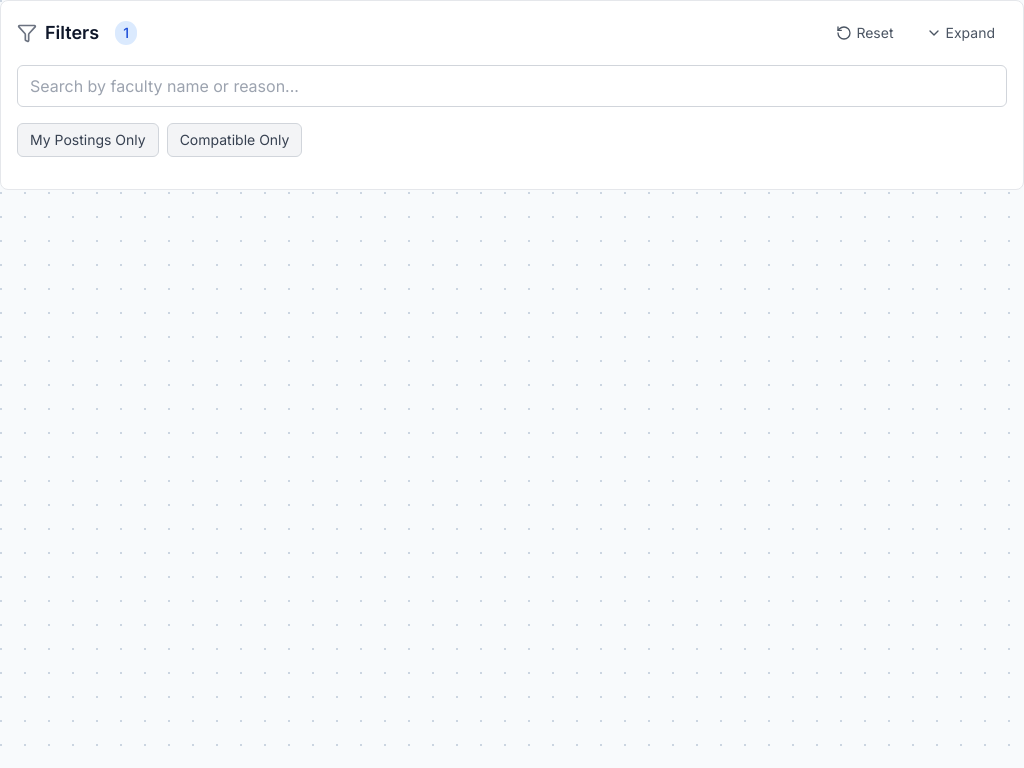
SwapFilters › Date Range Filter › should show Clear button when date range is active
Click the button "Expand": (960, 33) [914,17,1007,49]
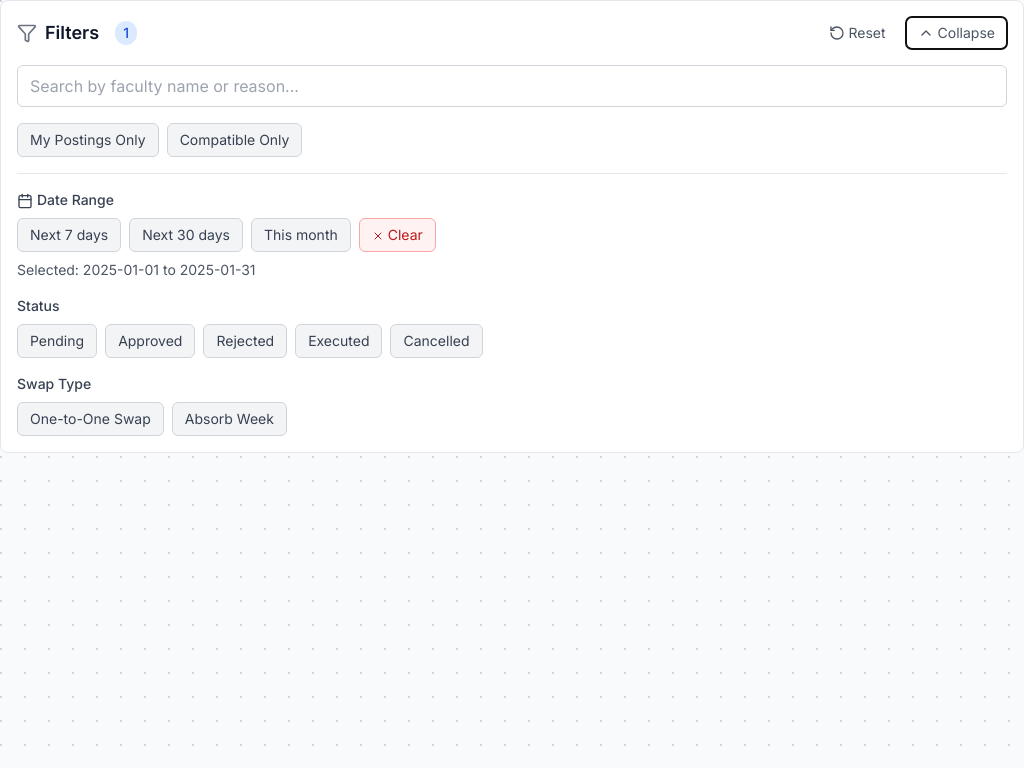
Expected: the button "Clear" is shown, [359,218,436,252]
